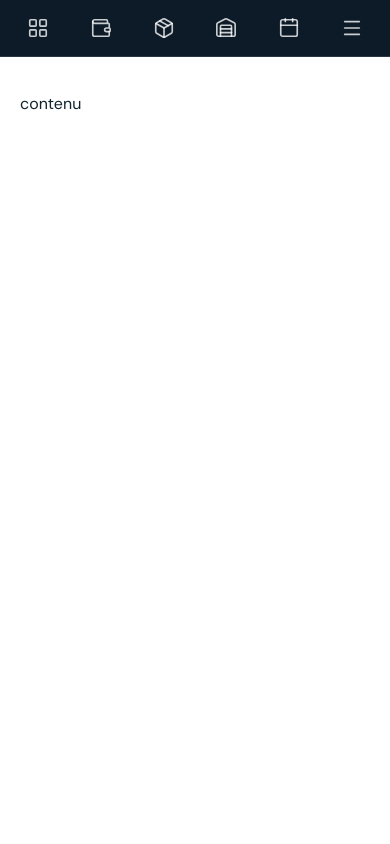
Scenario: DashboardLayout phone icon navigation › Autres opens the existing drawer with the remaining items
Click the button named "Autres" at x=352, y=28, box [321,4,382,52]
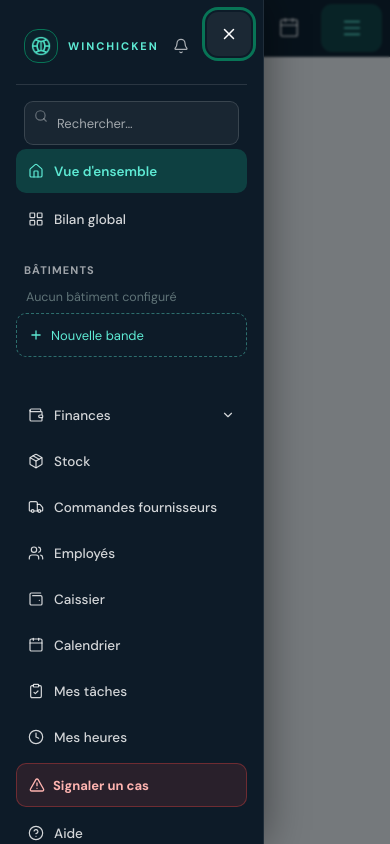
Check: the button named "Autres" is expanded, box [321,4,382,52]
Check: the button "Employés" is shown, box [16,531,247,575]
